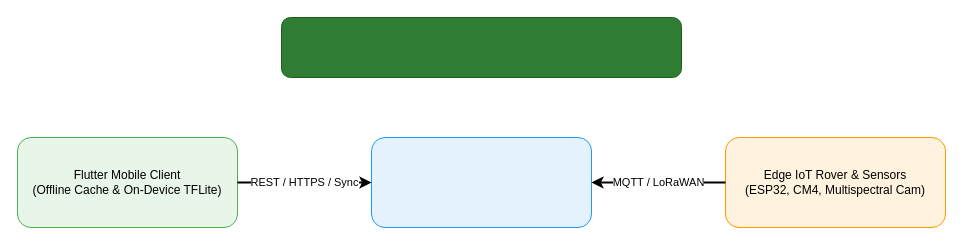
Image size: 963x245. Some labels were removed from this diagram. Here are the shapes that lost their labels. From the top down, the centre of each, then its label:
At [481,47]: "AI Agronomic Agent Integration Flow".
At [481,182]: "AgroScout Cloud Backend (FastAPI, PostGIS, TimescaleDB)".
